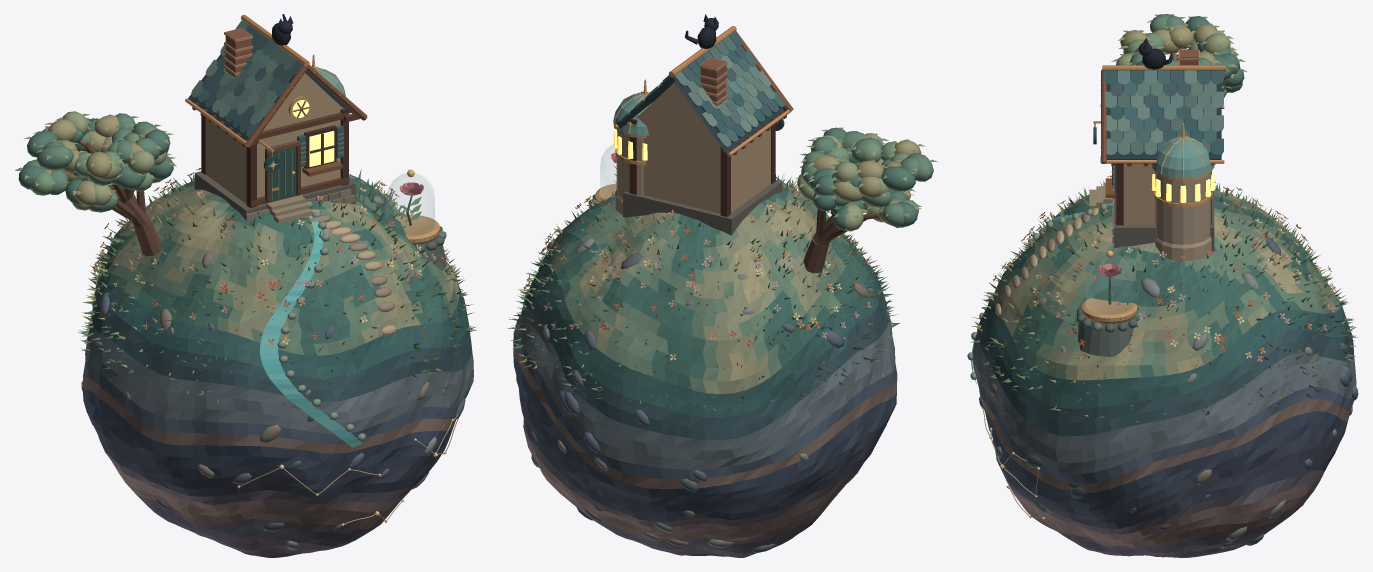
The model's file is rose-garden.glb.
The picture shows the model from 3 angles, left to right: view 1: azimuth 30°, elevation 25°; view 2: azimuth 150°, elevation 25°; view 3: azimuth 270°, elevation 25°; orthographic projection. The views are drawn at different scales.
Visible parts, largest first — view 1: B612_Asteroid_Body, Limewash and timber, B612_Tree, Wild thyme, poppies and grass, Fishscale roof tiles, Shale, cairns and garden steps, B612_Creek, Handblown bell, Gutters and observatory, Turned brass and enamel, LanternGlow, Inlaid southern sky atlas (+1 smaller); view 2: B612_Asteroid_Body, Limewash and timber, B612_Tree, Wild thyme, poppies and grass, Fishscale roof tiles, Shale, cairns and garden steps, Gutters and observatory, Handblown bell, B612_Cat; view 3: B612_Asteroid_Body, Fishscale roof tiles, Limewash and timber, Wild thyme, poppies and grass, Shale, cairns and garden steps, B612_Tree, Gutters and observatory, Rose stone terrace, Handblown bell, Turned brass and enamel, LanternGlow, B612_Cat.
Part boxes in pixels (<box>): B612_Asteroid_Body: <box>82,174,473,557</box>; Limewash and timber: <box>192,28,367,223</box>; B612_Tree: <box>15,111,176,256</box>; Wild thyme, poppies and grass: <box>78,168,476,408</box>; Fishscale roof tiles: <box>188,20,359,139</box>; Shale, cairns and garden steps: <box>81,194,465,550</box>; B612_Creek: <box>260,216,362,447</box>; Handblown bell: <box>387,173,434,234</box>; Gutters and observatory: <box>185,14,356,191</box>; Turned brass and enamel: <box>395,169,439,244</box>; LanternGlow: <box>292,100,334,166</box>; Inlaid southern sky atlas: <box>237,410,463,525</box>; B612_Asteroid_Body: <box>513,179,897,557</box>; Limewash and timber: <box>615,31,793,235</box>; B612_Tree: <box>795,127,938,273</box>; Wild thyme, poppies and grass: <box>508,174,900,414</box>; Fishscale roof tiles: <box>616,31,786,153</box>; Shale, cairns and garden steps: <box>530,183,884,552</box>; Gutters and observatory: <box>613,26,791,165</box>; Handblown bell: <box>600,145,616,199</box>; B612_Cat: <box>685,14,718,48</box>; B612_Asteroid_Body: <box>972,190,1356,557</box>; Fishscale roof tiles: <box>1104,70,1223,159</box>; Limewash and timber: <box>1089,50,1214,260</box>; Wild thyme, poppies and grass: <box>970,175,1357,423</box>; Shale, cairns and garden steps: <box>967,198,1358,548</box>; B612_Tree: <box>1111,14,1246,97</box>; Gutters and observatory: <box>1093,65,1225,207</box>; Rose stone terrace: <box>1077,308,1139,356</box>; Handblown bell: <box>1086,254,1132,313</box>; Turned brass and enamel: <box>1081,250,1138,323</box>; LanternGlow: <box>1113,166,1214,202</box>; B612_Cat: <box>1138,38,1172,69</box>.
Bounding box in the file's own units: 5.5 × 6.7 × 4.69.
